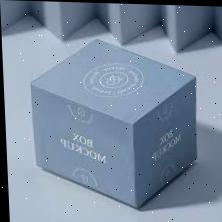cube: (25, 39, 199, 207)
